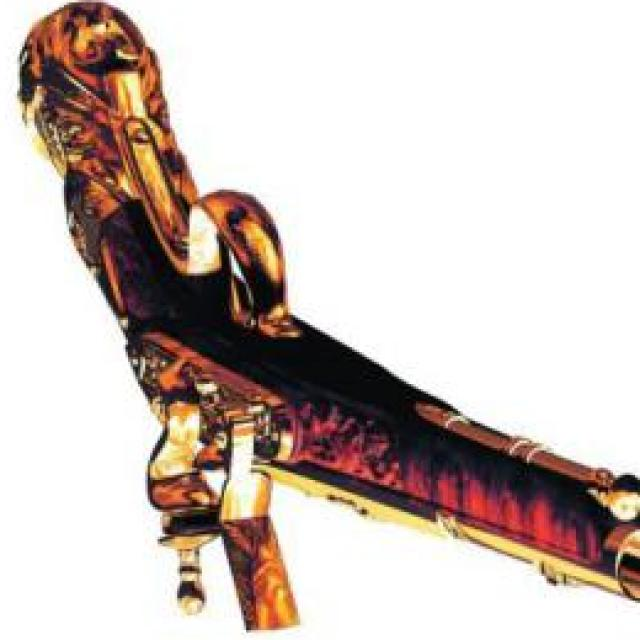pistol: (17, 8, 640, 638)
